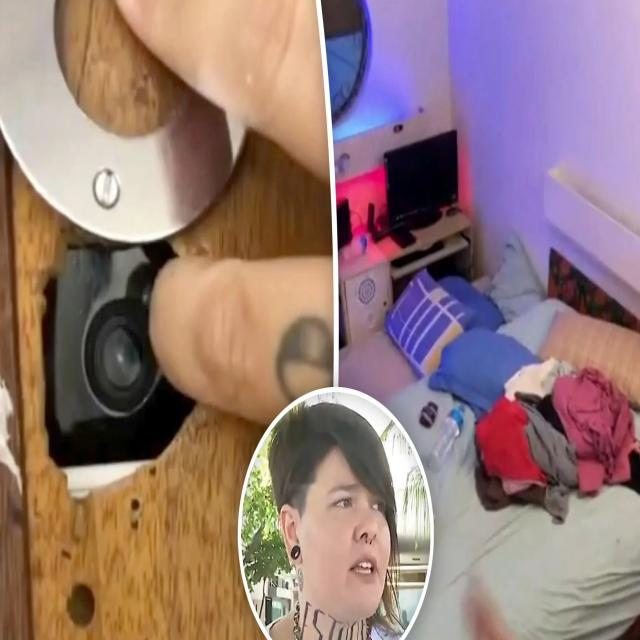hidden camera: (91, 303, 156, 411)
